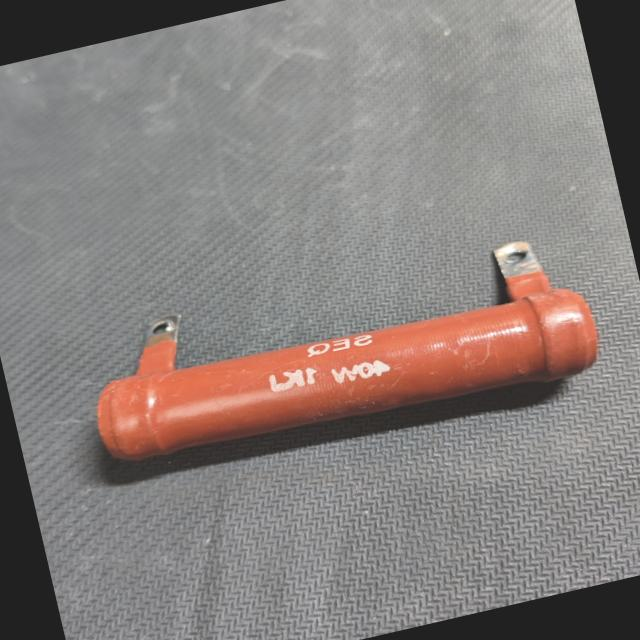resistor: (48, 203, 630, 498)
